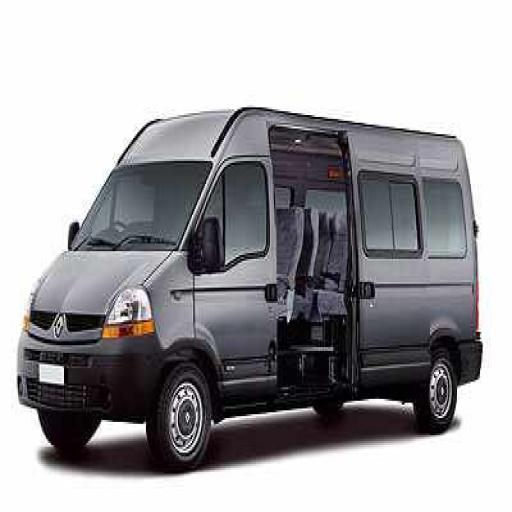van: (18, 107, 481, 468)
